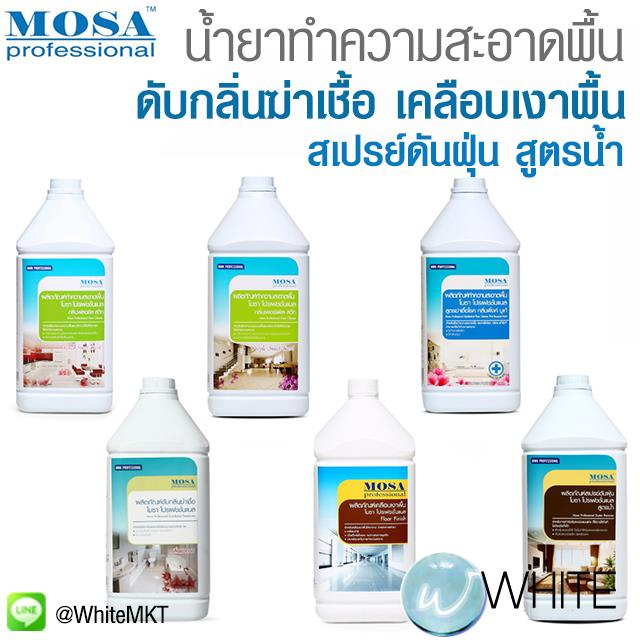Cleaning_solution: (510, 369, 638, 633), (195, 167, 319, 425), (409, 171, 537, 418), (99, 371, 215, 625), (309, 374, 423, 628), (11, 173, 119, 424)
